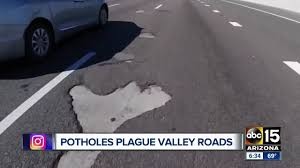pothole: (52, 72, 179, 131)
